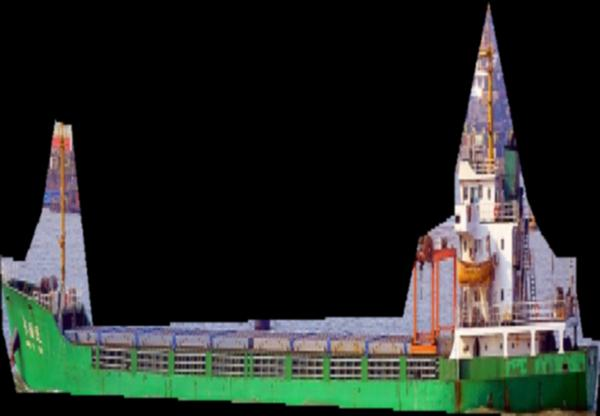Bulkers: (1, 2, 600, 416)
